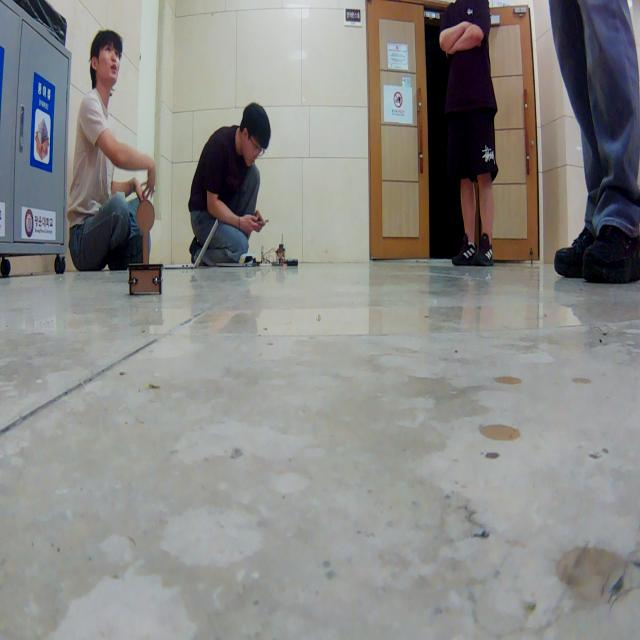target: (129, 197, 164, 295)
